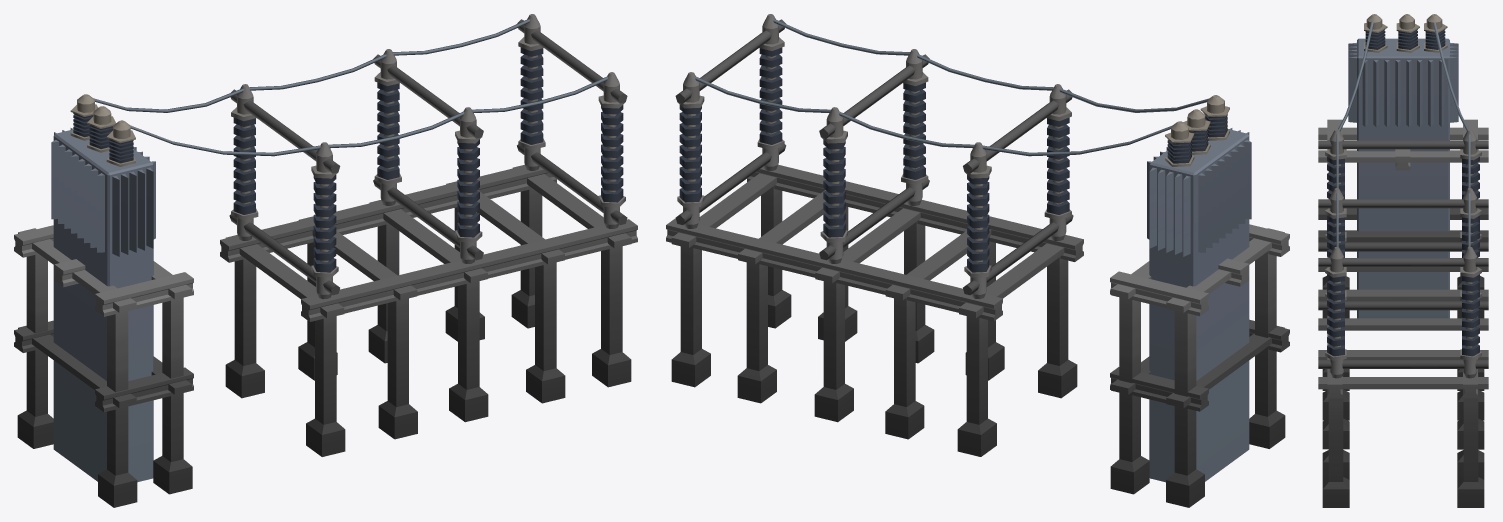
Rendered from PowerStation_A.fbx.
3 views of the same model, side by side, from view 1: azimuth 30°, elevation 25°; view 2: azimuth 150°, elevation 25°; view 3: azimuth 270°, elevation 25° (orthographic). The views are drawn at different scales.
Parts seen in each view (by area): view 1: PowerStation_A; view 2: PowerStation_A; view 3: PowerStation_A.
Part boxes in pixels (x1,y1,x2,y2): PowerStation_A: (14, 14, 637, 507); PowerStation_A: (666, 14, 1289, 507); PowerStation_A: (1318, 14, 1488, 507).
Bounding box in the file's own units: 659 × 418 × 217.
